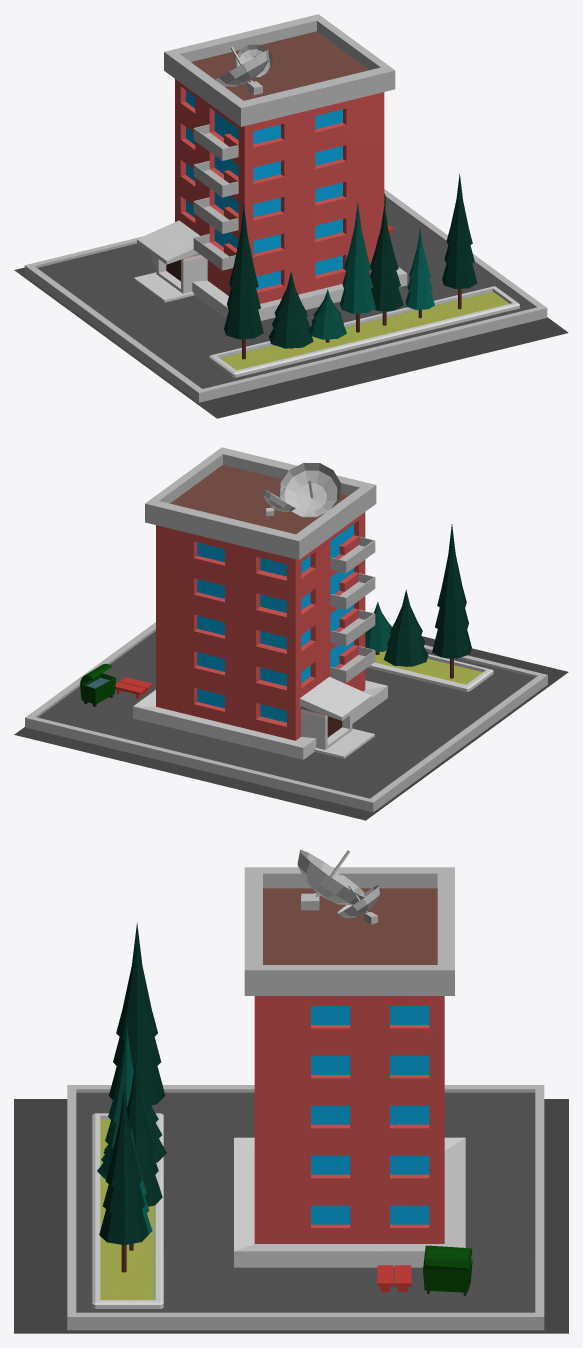
Rendered from citybuilding2.gltf.
3 renders of one model, top to bottom at view 1: azimuth 30°, elevation 25°; view 2: azimuth 150°, elevation 25°; view 3: azimuth 270°, elevation 25°, orthographic. The views are drawn at different scales.
Parts seen in each view (by area): view 1: House_11.001, Floor_4_8.001, Plane.001, Cube_7_7.001, Firtree_5_7.001, Firtree_4_8.001, Firtree_2_8.001, Firtree_1_7.001, Firtree_47_7.001, Firtree_7.001, Antenne_5.001, Firtree_3_8.001 (+1 smaller); view 2: House_11.001, Floor_4_8.001, Plane.001, Firtree_5_7.001, Antenne_5.001, Cube_7_7.001, Firtree_47_7.001, Trash_6.001, Firtree_3_8.001; view 3: House_11.001, Floor_4_8.001, Plane.001, Cube_7_7.001, Firtree_4_8.001, Firtree_5_7.001, Antenne_5.001, Trash_6.001, Firtree_1_7.001, Firtree_2_8.001, Antenne_1_5.001, Firtree_47_7.001.
Boxes of the visible parts, x1,y1,x2,y2 form: House_11.001: (133, 14, 407, 320); Floor_4_8.001: (24, 189, 547, 402); Plane.001: (14, 267, 568, 418); Cube_7_7.001: (209, 286, 519, 377); Firtree_5_7.001: (224, 205, 263, 359); Firtree_4_8.001: (442, 173, 477, 309); Firtree_2_8.001: (340, 202, 375, 332); Firtree_1_7.001: (370, 204, 403, 325); Firtree_47_7.001: (268, 271, 313, 348); Firtree_7.001: (405, 228, 434, 318); Antenne_5.001: (215, 47, 268, 95); Firtree_3_8.001: (308, 289, 346, 342); House_11.001: (133, 447, 387, 759); Floor_4_8.001: (25, 622, 547, 812); Plane.001: (14, 636, 568, 820); Firtree_5_7.001: (432, 524, 471, 678); Antenne_5.001: (280, 462, 340, 517); Cube_7_7.001: (367, 650, 493, 691); Firtree_47_7.001: (384, 589, 428, 666); Trash_6.001: (80, 663, 116, 706); Firtree_3_8.001: (365, 601, 391, 654); House_11.001: (234, 867, 465, 1267); Floor_4_8.001: (67, 1085, 544, 1330); Plane.001: (14, 1099, 568, 1333); Cube_7_7.001: (92, 1113, 163, 1308); Firtree_4_8.001: (99, 1087, 148, 1272); Firtree_5_7.001: (109, 922, 165, 1105); Antenne_5.001: (297, 849, 364, 910); Trash_6.001: (422, 1245, 472, 1295); Firtree_1_7.001: (127, 1062, 162, 1206); Firtree_2_8.001: (101, 1026, 133, 1173); Antenne_1_5.001: (337, 885, 379, 924); Firtree_47_7.001: (103, 1060, 166, 1162).
Size of the model in its own units: 20 by 13.86 by 20.
2 materials, 1 textured.
